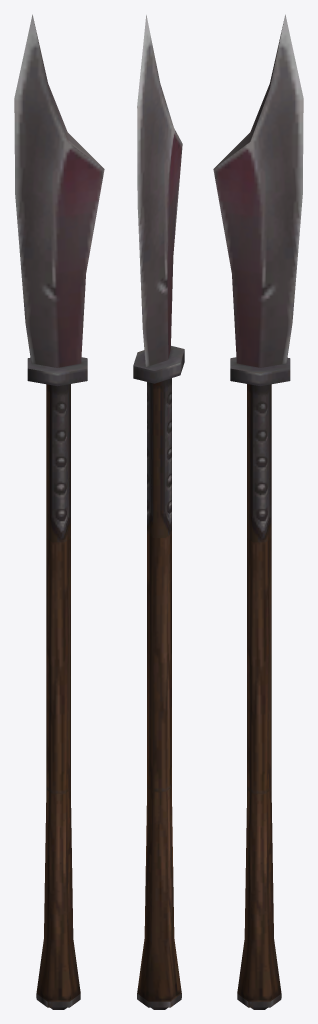
Rendered from polearm11_4dfa2fd9.glb.
3 views of the same model, side by side, from view 1: azimuth 90°, elevation 25°; view 2: azimuth 150°, elevation 25°; view 3: azimuth 270°, elevation 25° (orthographic).
Size of the model in its own units: 0.1652 by 3.68 by 0.3037.
Materials: 1 (1 with a texture image).
